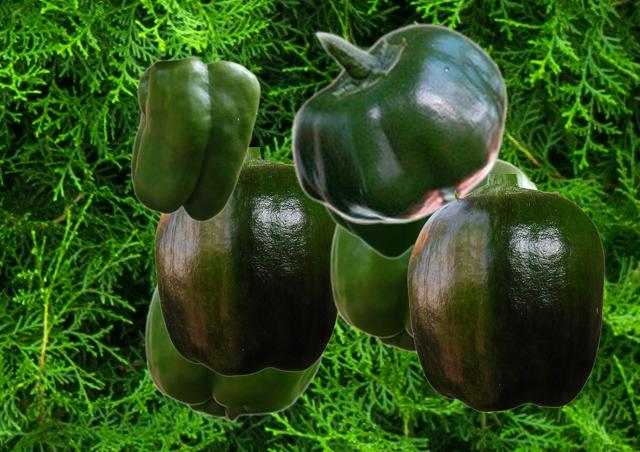bell_pepper: (407, 174, 604, 411), (289, 22, 507, 223), (154, 147, 337, 375), (329, 157, 540, 354), (144, 280, 323, 421), (130, 56, 260, 221), (324, 207, 428, 259)
